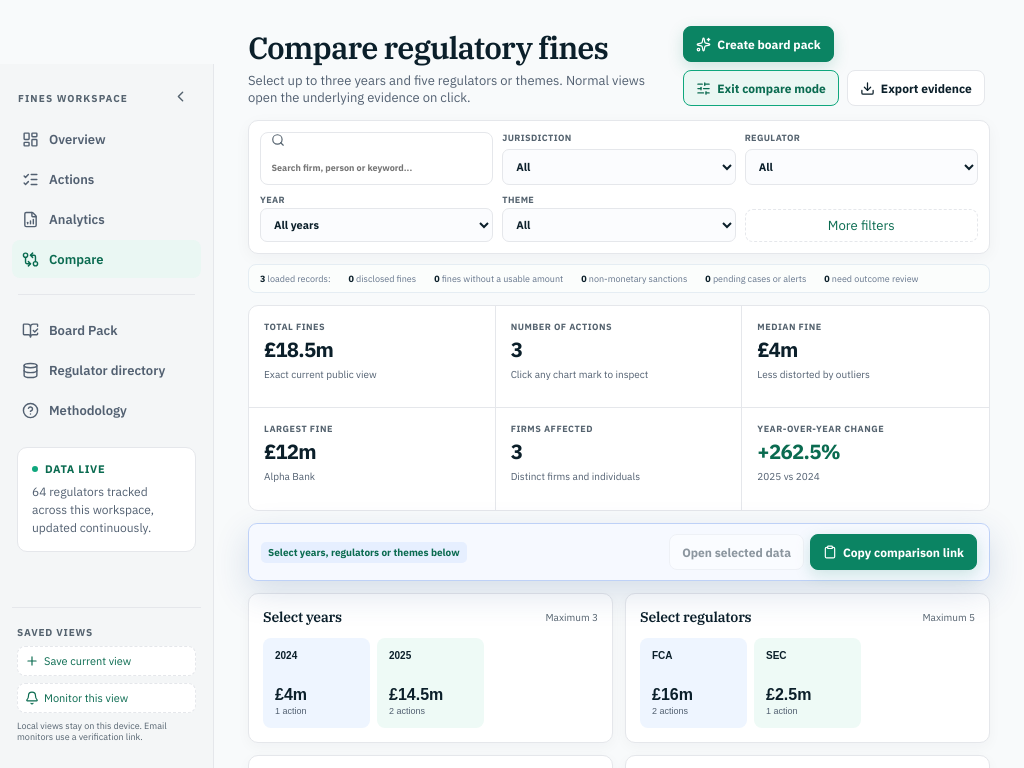
Test: product workspaces › supports guided multi-selection with exact server-side summaries
The image size is (1024, 768).
Check: the heading "Compare regulatory fines" is shown, box [248,28,663,67]
Click the button "2025 £14.5m 2 actions" at coordinates (430, 683), box [377,638,484,728]
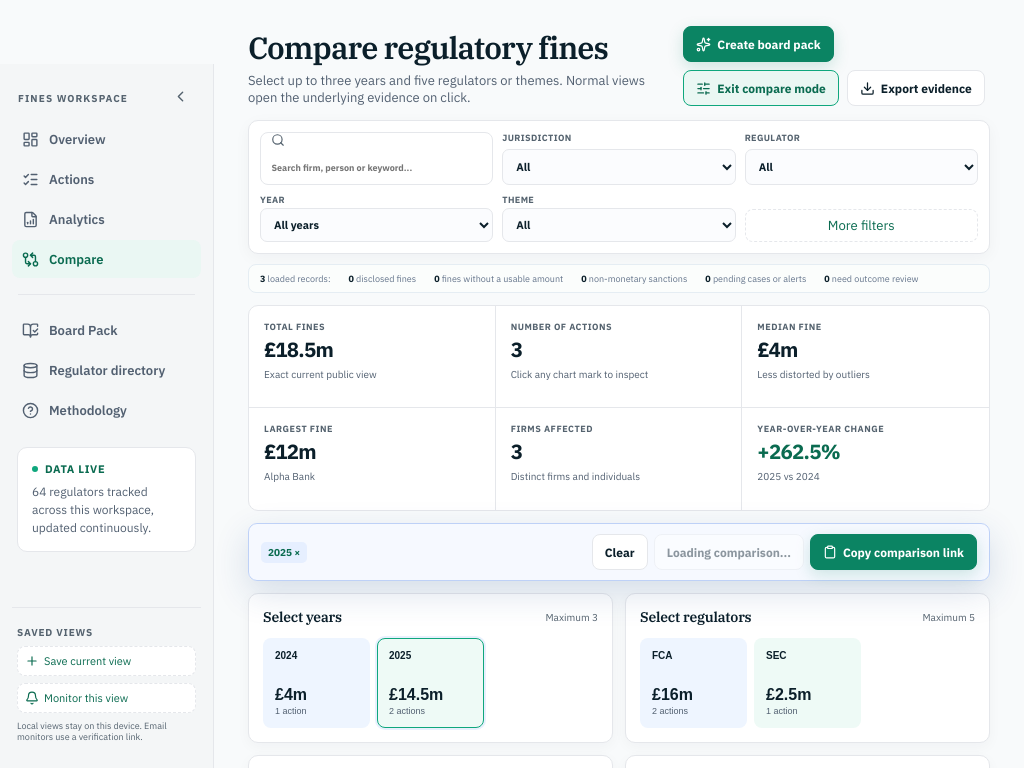
Click the button "2024 £4m 1 action" at coordinates (316, 683), box [263,638,370,728]
(page scrolled)
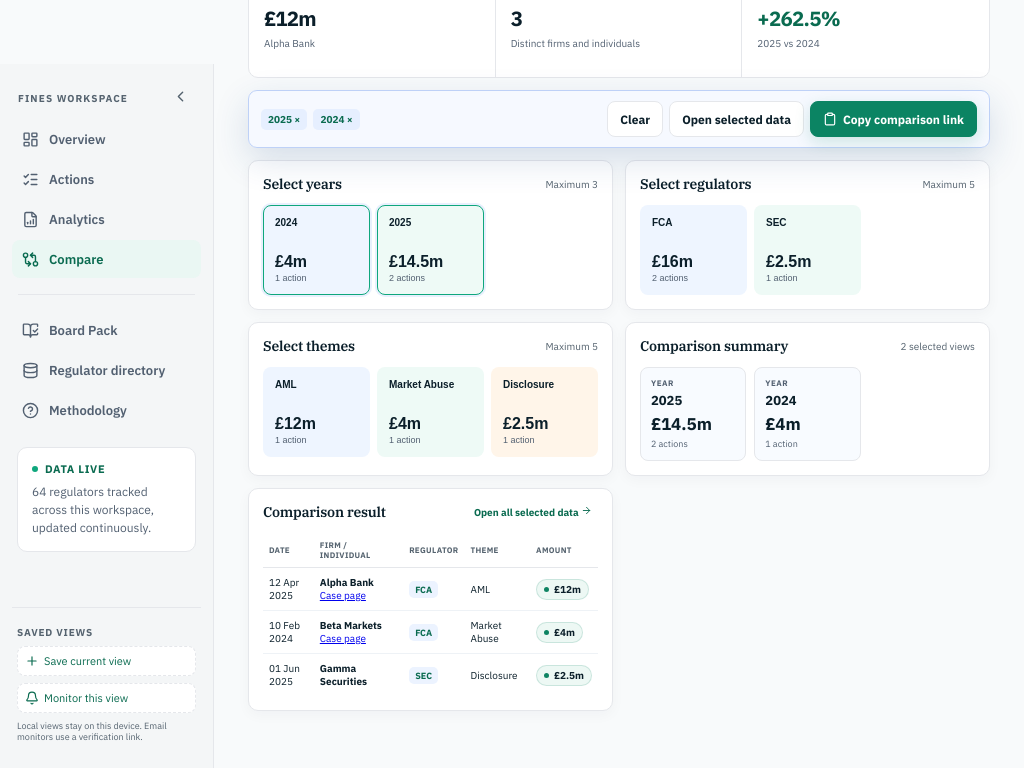
Check: the button named "Remove year 2025" is shown, box [261,108,307,130]
Check: the button named "Remove year 2024" is shown, box [313,108,360,130]
Check: the button "Year 2025 £14.5m 2 actions" is shown, box [640,367,746,461]
